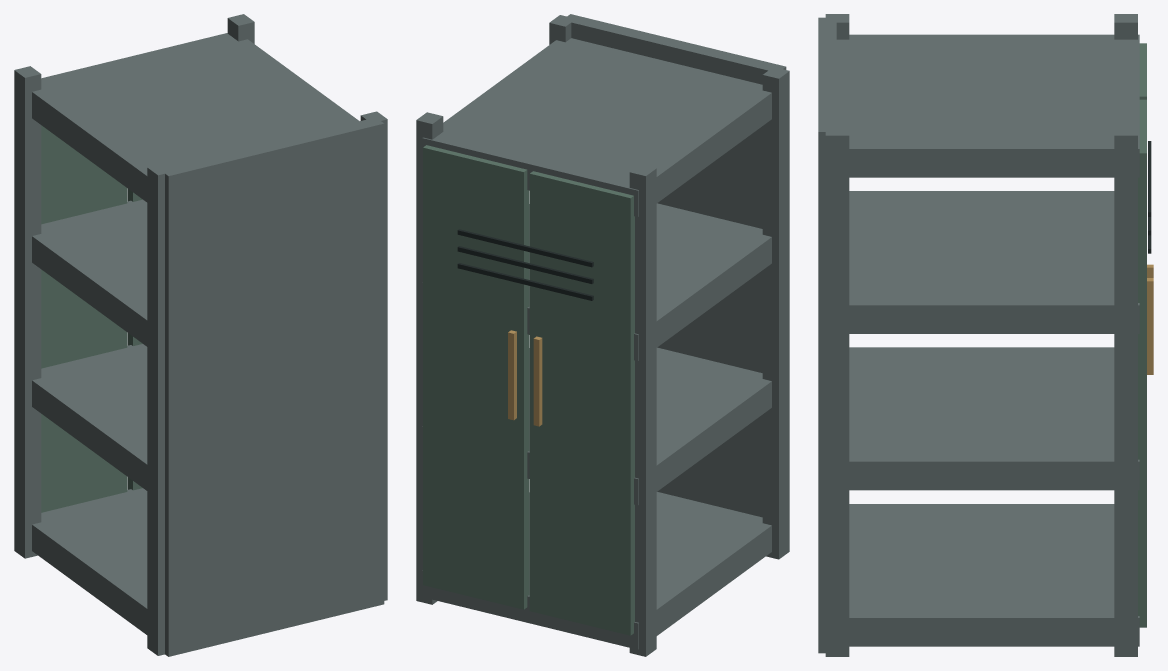
Rendered from LP_Security_FileCabinet.fbx.
3 renders of one model, left to right at view 1: azimuth 30°, elevation 25°; view 2: azimuth 150°, elevation 25°; view 3: azimuth 270°, elevation 25°, orthographic. The views are drawn at different scales.
Visible parts, largest first — view 1: M_Museum_BrushedMetal, SageUpholstery; view 2: M_Museum_BrushedMetal, SageUpholstery, Charcoal, AgedBrass; view 3: M_Museum_BrushedMetal, SageUpholstery, AgedBrass.
Boxes of the visible parts, x1=… form: M_Museum_BrushedMetal: x1=14, y1=14, x2=387, y2=656; SageUpholstery: x1=41, y1=125, x2=142, y2=512; M_Museum_BrushedMetal: x1=416, y1=14, x2=789, y2=656; SageUpholstery: x1=423, y1=145, x2=634, y2=635; Charcoal: x1=457, y1=229, x2=593, y2=300; AgedBrass: x1=508, y1=330, x2=542, y2=426; M_Museum_BrushedMetal: x1=818, y1=14, x2=1139, y2=656; SageUpholstery: x1=1138, y1=43, x2=1146, y2=627; AgedBrass: x1=1147, y1=264, x2=1153, y2=374.
Size of the model in its own units: 60 by 120 by 70.
